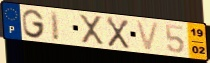5: (164, 24, 186, 54)
G: (21, 8, 46, 39)
I: (49, 10, 61, 42)
V: (134, 19, 162, 52)
X: (78, 13, 106, 46), (105, 15, 131, 50)
